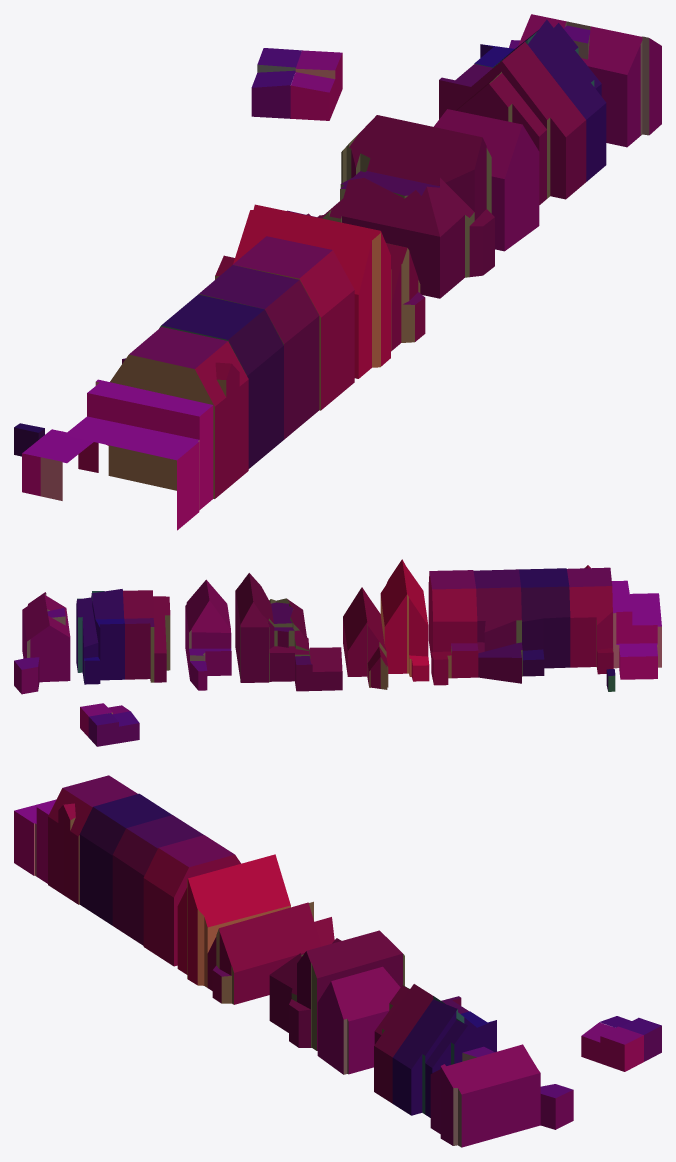
Rendered from buildings_5_12.glb.
3 renders of one model, top to bottom at view 1: azimuth 30°, elevation 25°; view 2: azimuth 150°, elevation 25°; view 3: azimuth 270°, elevation 25°, orthographic. The views are drawn at different scales.
Visible parts, largest first — view 1: buildings_5_12; view 2: buildings_5_12; view 3: buildings_5_12.
Boxes of the visible parts, x1,y1,x2,y2 form: buildings_5_12: [14, 14, 661, 530]; buildings_5_12: [14, 559, 661, 746]; buildings_5_12: [14, 775, 661, 1147].
Bounding box in the file's own units: 87.82 × 13.25 × 76.98.
